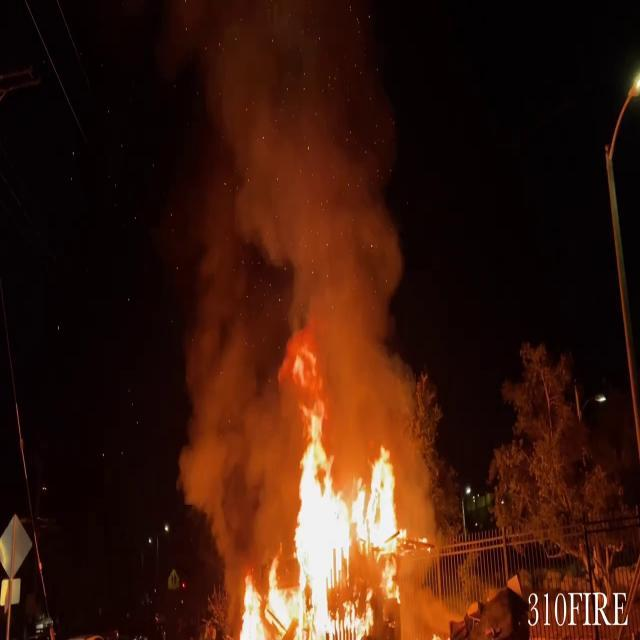Fire: (235, 362, 429, 640)
Smoke: (165, 3, 426, 458)
